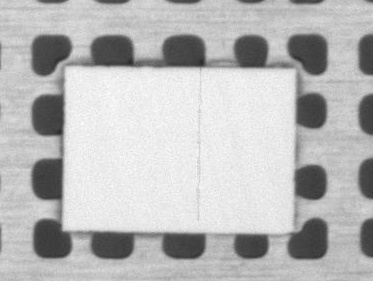DIE_CRACK: (193, 67, 201, 222)
